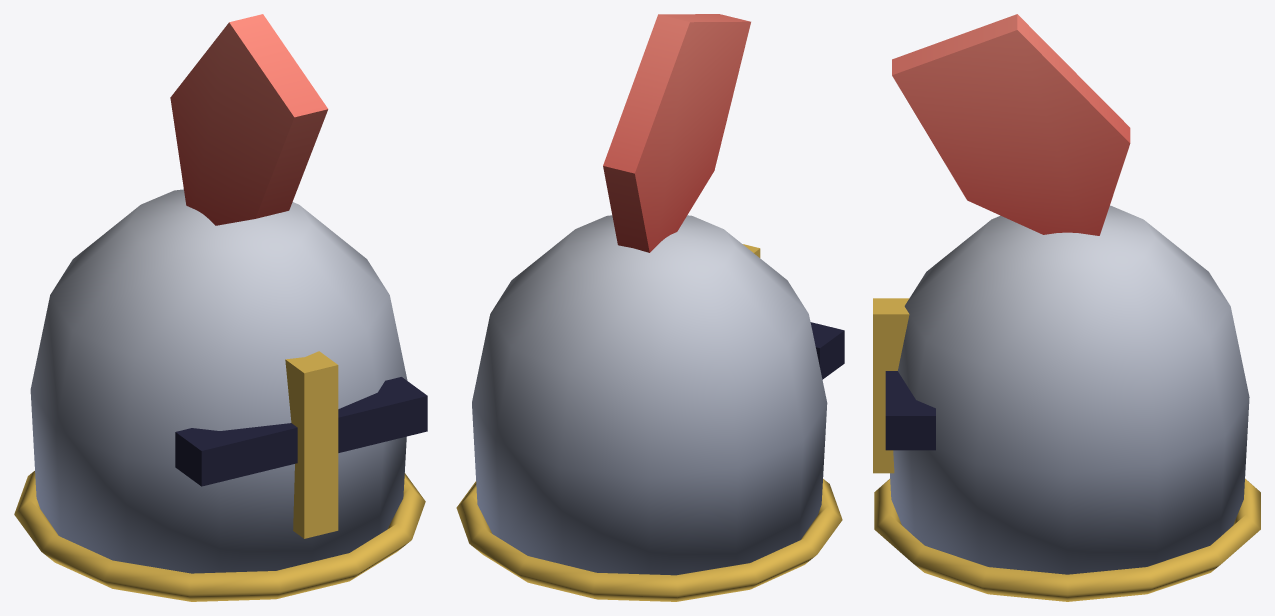
Rendered from helm_knight.glb.
3 views of the same model, side by side, from view 1: azimuth 30°, elevation 25°; view 2: azimuth 150°, elevation 25°; view 3: azimuth 270°, elevation 25° (orthographic). The views are drawn at different scales.
Parts seen in each view (by area): view 1: helm_knight; view 2: helm_knight; view 3: helm_knight.
Part boxes in pixels (box(x1,y1,x2,y2)): helm_knight: box(14, 14, 427, 601); helm_knight: box(456, 14, 844, 601); helm_knight: box(873, 14, 1260, 601).
Size of the model in its own units: 0.316 by 0.442 by 0.309.
